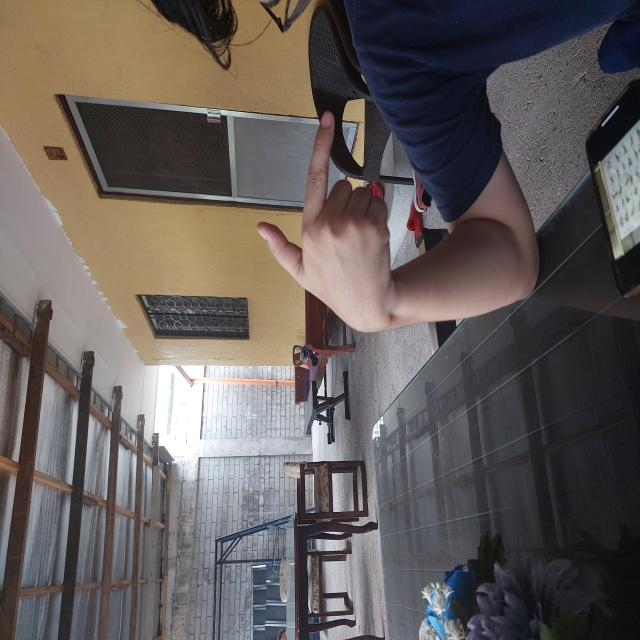G: (305, 253, 533, 395)
